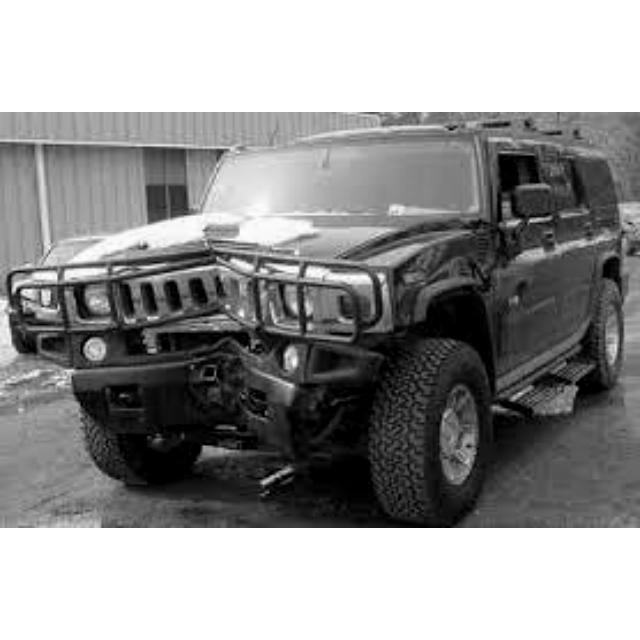bonnet-dent: (136, 216, 398, 262)
fender-dent: (413, 227, 500, 319)
front-bumper-dent: (85, 262, 285, 411)
